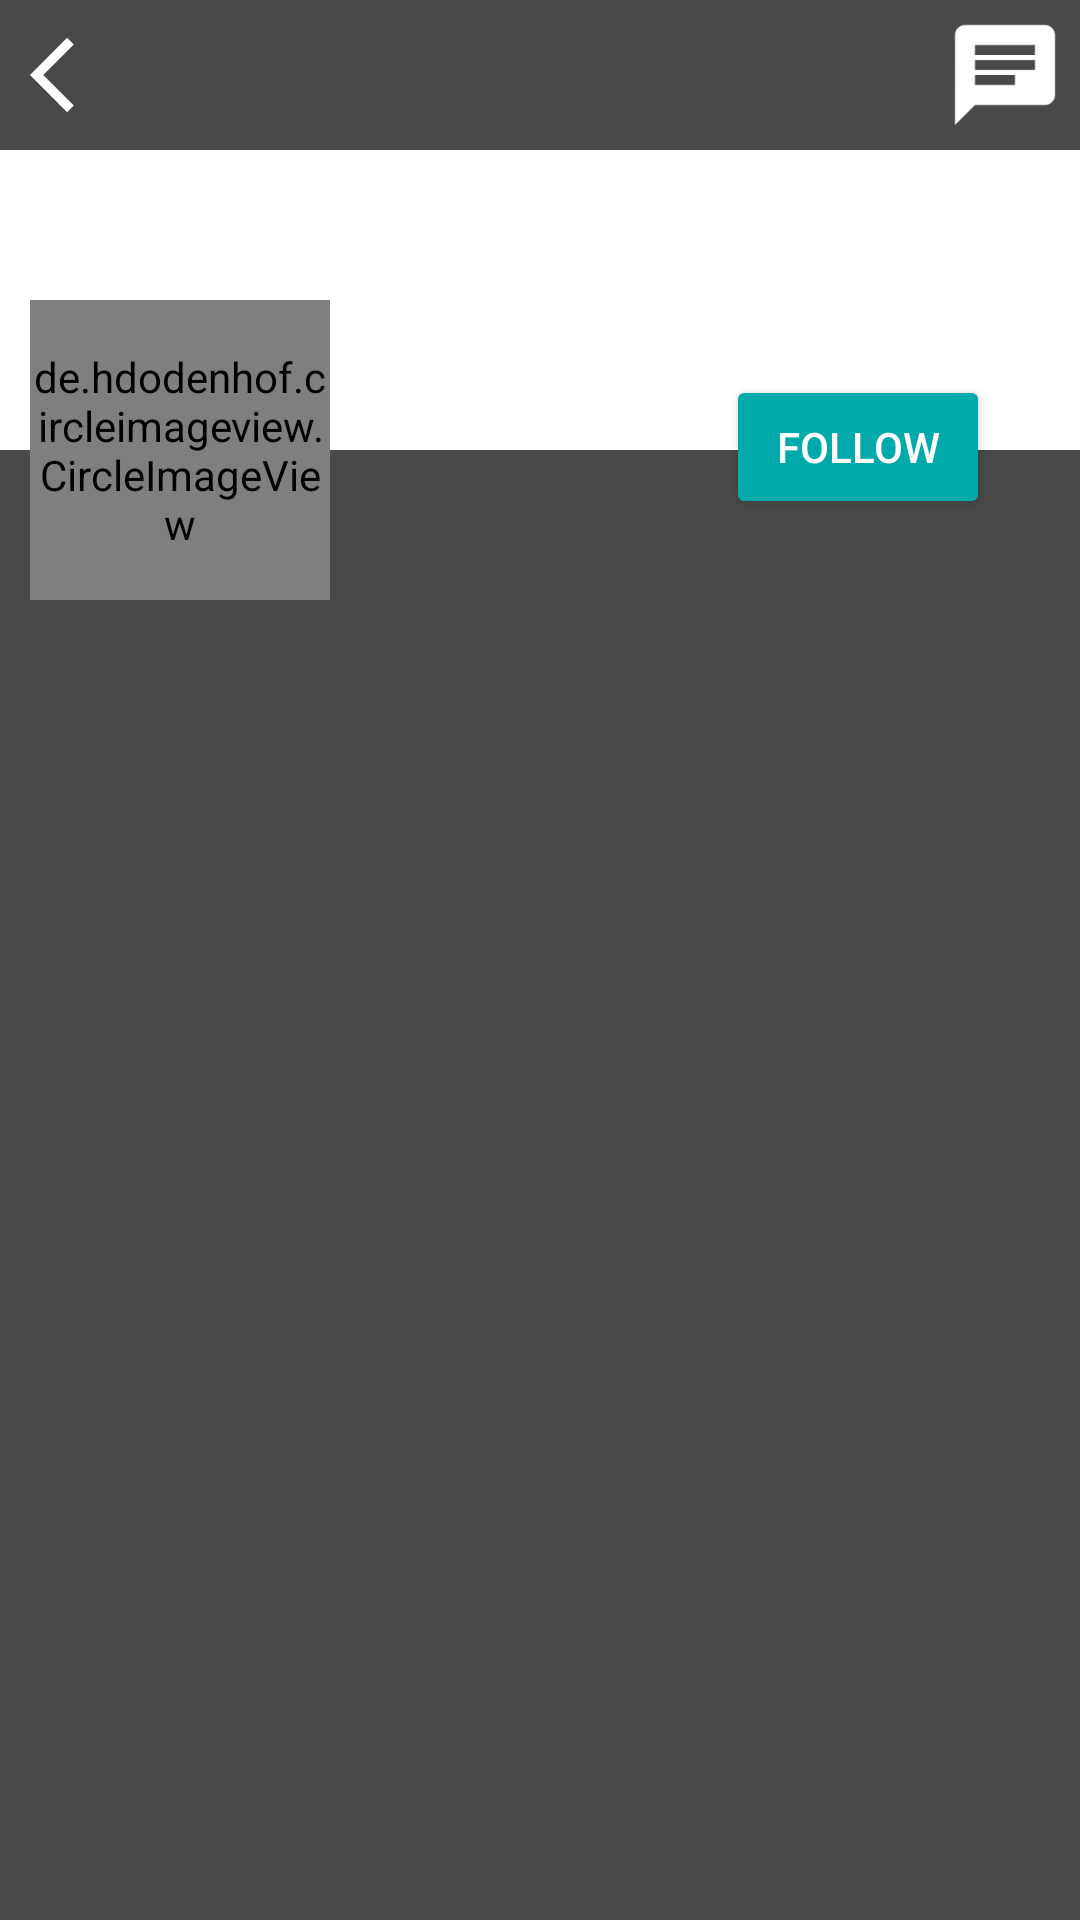

Screen size 1080 × 1920. Icon name, then its box in pixels as (x1, y1, x2, y2):
arrow back: (30, 38, 74, 112)
chat: (954, 24, 1056, 125)
